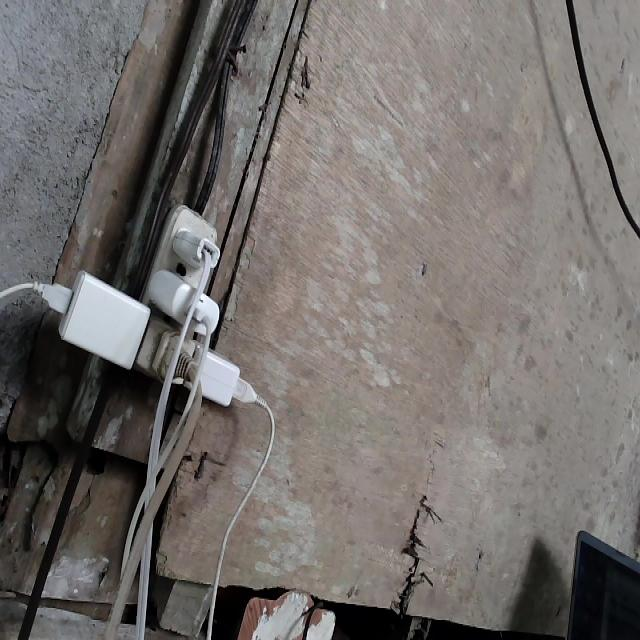-: (34, 203, 267, 409)
